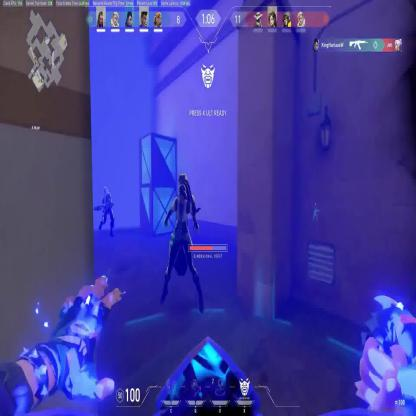enemy: (160, 172, 205, 314), (94, 184, 116, 237)
enemy_head: (178, 173, 188, 197), (103, 186, 108, 196)
